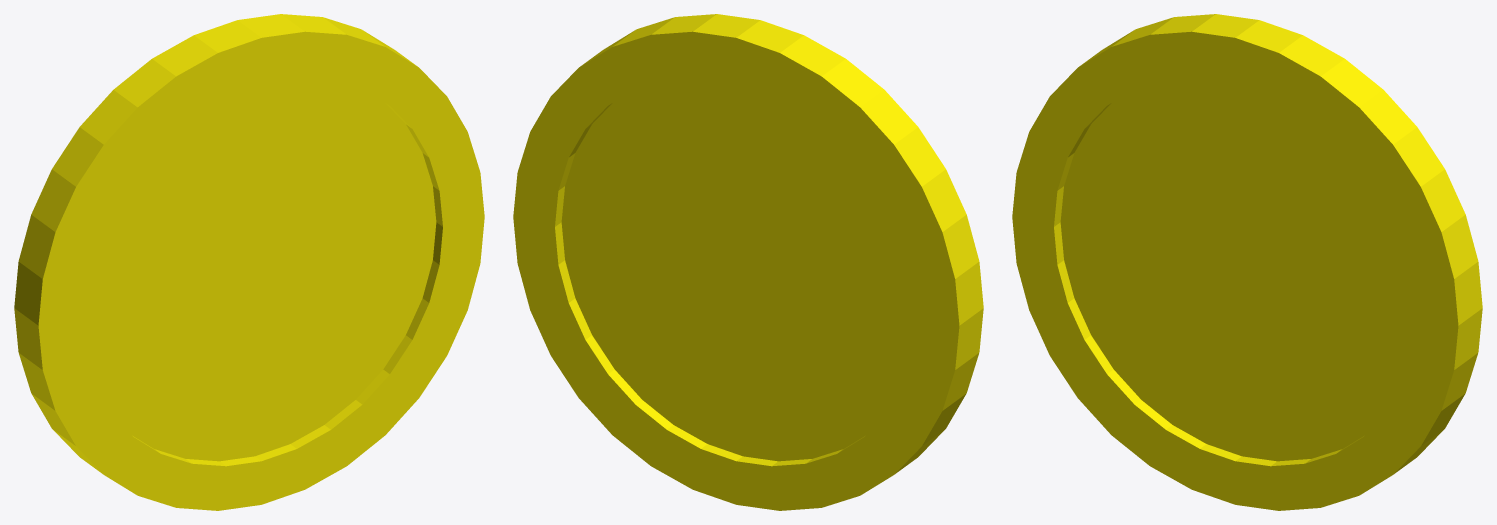
Rendered from Coin.obj.
The picture shows the model from 3 angles, left to right: view 1: azimuth 30°, elevation 25°; view 2: azimuth 150°, elevation 25°; view 3: azimuth 330°, elevation 25°; orthographic projection.
Parts seen in each view (by area): view 1: Coin; view 2: Coin; view 3: Coin.
Boxes of the visible parts, left/top/right/bottom form: Coin: left=14, top=14, right=484, bottom=510; Coin: left=513, top=14, right=983, bottom=510; Coin: left=1012, top=14, right=1482, bottom=510.
Size of the model in its own units: 0.0316 by 0.0316 by 0.00297.
1 material, 1 textured.
